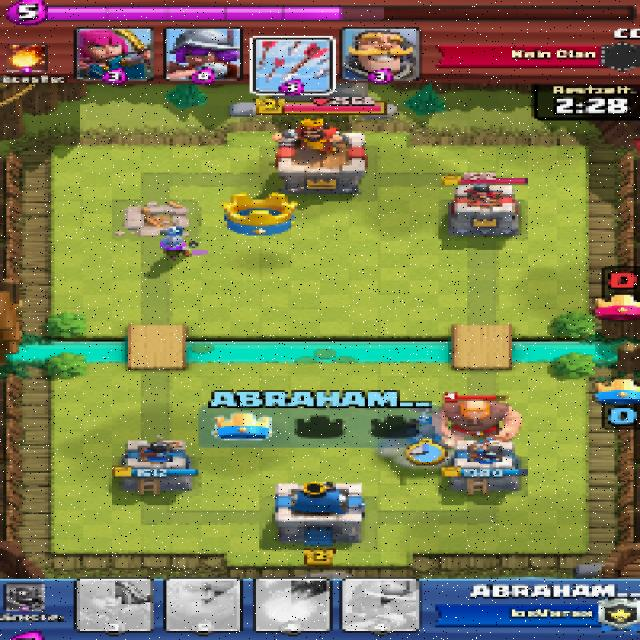Enemy-Giant: (432, 397, 524, 444)
Player-Knight: (408, 414, 443, 455)
Player-Musketeer: (156, 225, 202, 258)
